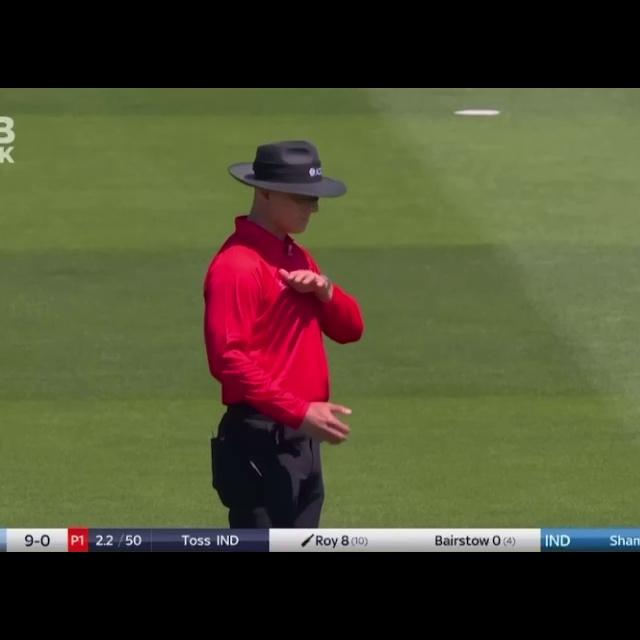umpire: (182, 105, 374, 526)
